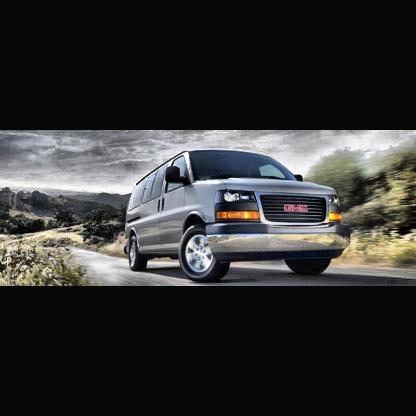GMC Savana Van 2012: (123, 149, 353, 285)
